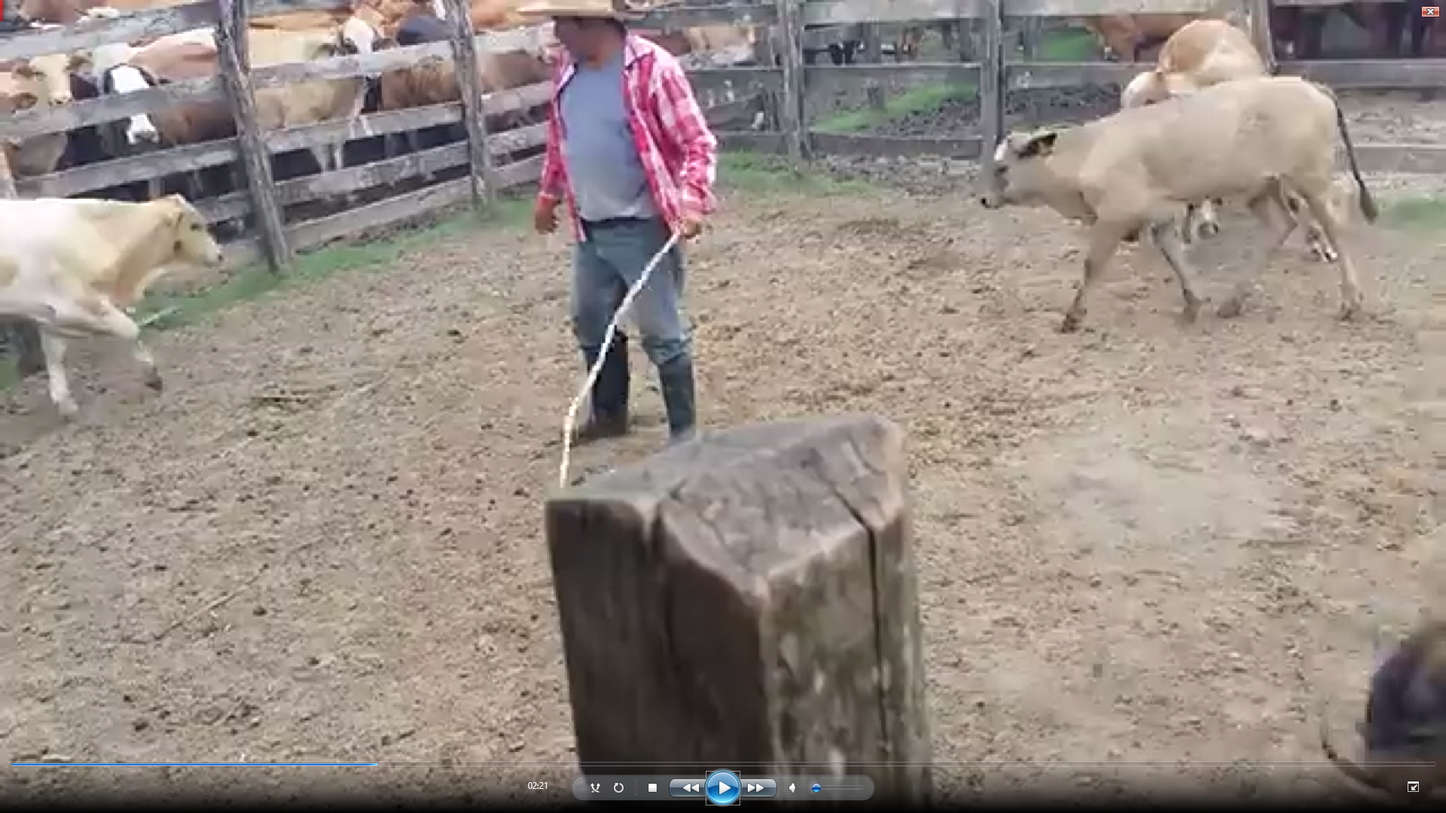bovino: (974, 72, 1391, 323), (0, 180, 225, 417)
